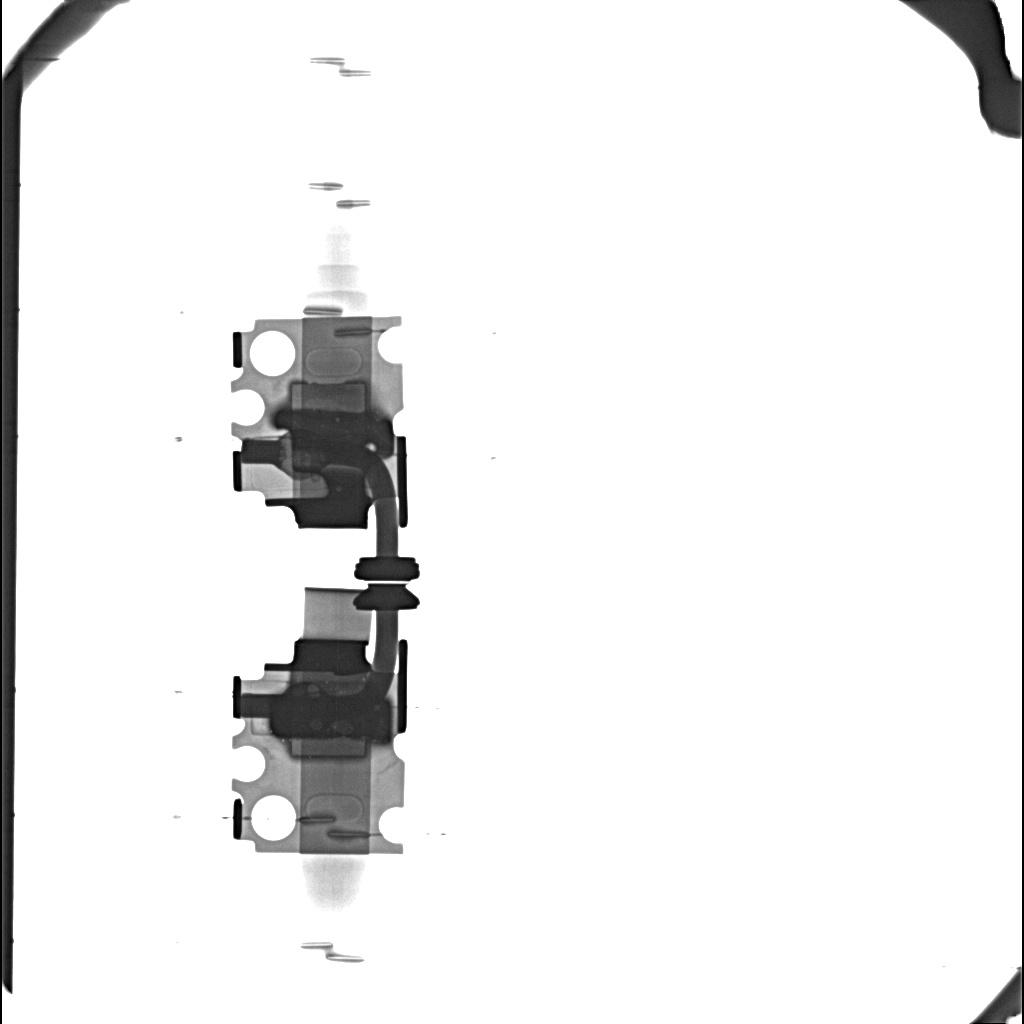PX: (289, 380, 368, 408), (290, 739, 368, 759)
SX: (270, 695, 389, 740), (277, 410, 391, 455)
